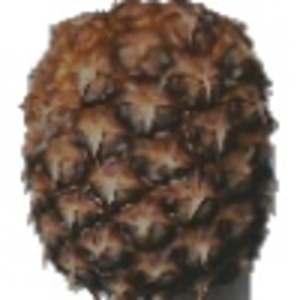abacaxi: (14, 4, 284, 292)
